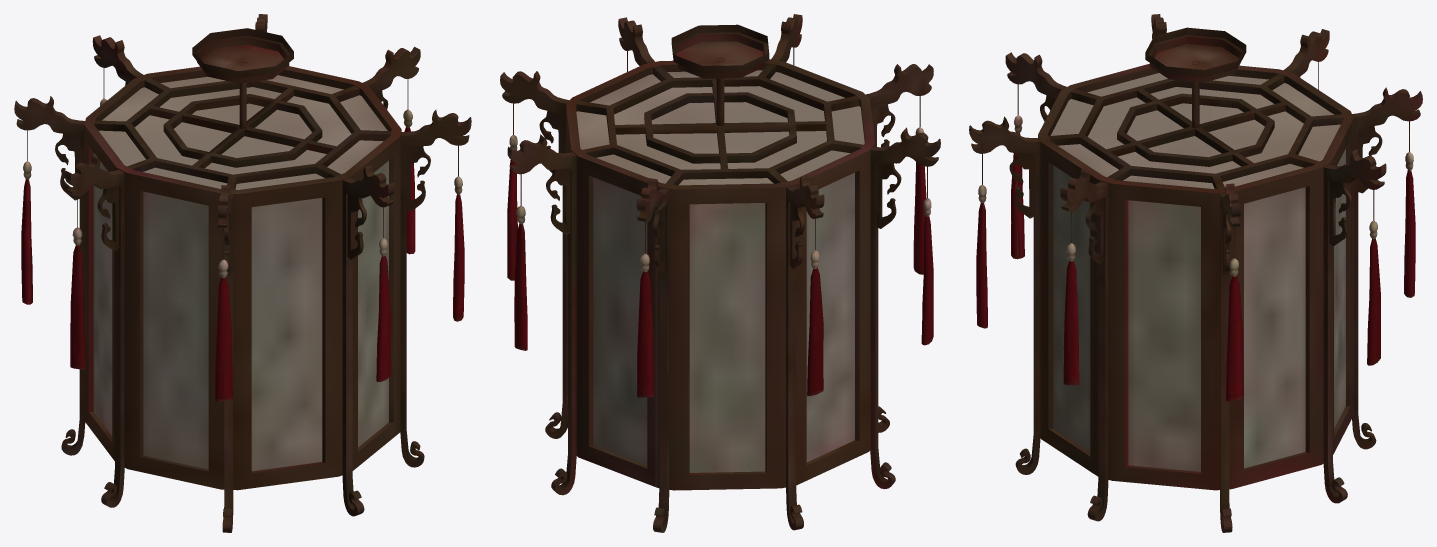
Rendered from ph-chinese-chandelier.glb.
3 renders of one model, left to right at view 1: azimuth 30°, elevation 25°; view 2: azimuth 150°, elevation 25°; view 3: azimuth 270°, elevation 25°, orthographic.
Parts seen in each view (by area): view 1: chinese_chandelier; view 2: chinese_chandelier; view 3: chinese_chandelier.
Part boxes in pixels (<box>): chinese_chandelier: <box>14,14,471,532</box>; chinese_chandelier: <box>500,14,940,532</box>; chinese_chandelier: <box>969,14,1422,532</box>.
Bounding box in the file's own units: 1 × 1 × 1.
1 material, 1 textured.
